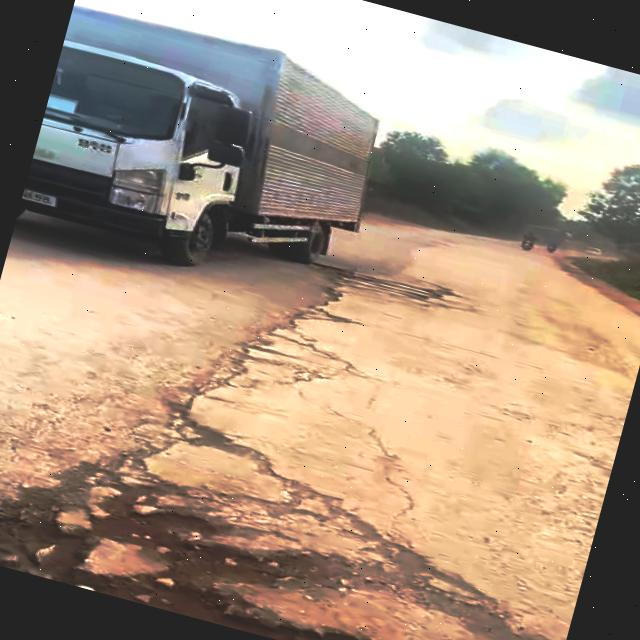pothole: (0, 430, 577, 640)
